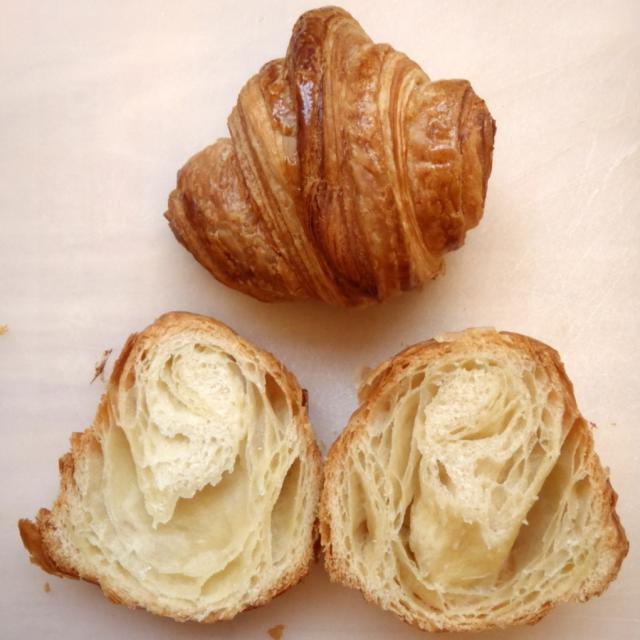Croissant: (16, 312, 630, 632), (161, 4, 499, 313)
